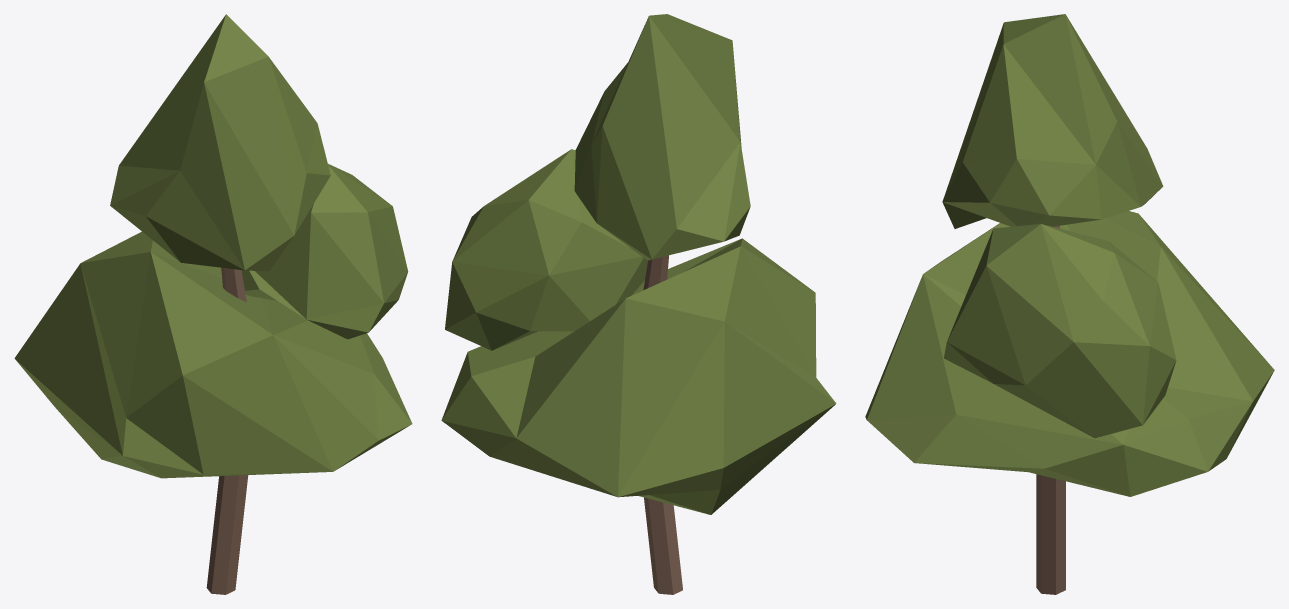
File: Tree Type4 01.glb
3 renders of one model, left to right at view 1: azimuth 30°, elevation 25°; view 2: azimuth 150°, elevation 25°; view 3: azimuth 270°, elevation 25°, orthographic. The views are drawn at different scales.
Parts seen in each view (by area): view 1: Tree_Type4_01_mesh; view 2: Tree_Type4_01_mesh; view 3: Tree_Type4_01_mesh.
Part boxes in pixels (box(x1,y1,x2,y2)): Tree_Type4_01_mesh: box(14, 14, 412, 594); Tree_Type4_01_mesh: box(441, 14, 836, 594); Tree_Type4_01_mesh: box(865, 14, 1274, 594).
Size of the model in its own units: 1.24 by 2.14 by 1.37.
1 material, 1 textured.
